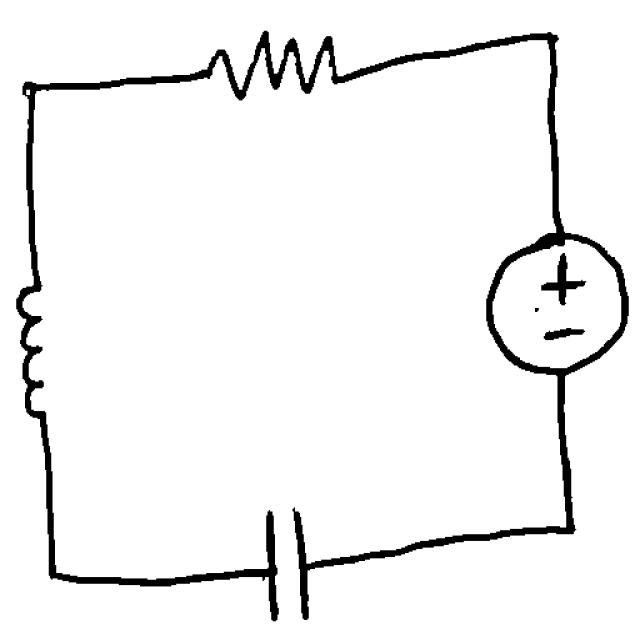inductor: (11, 269, 68, 436)
resistor: (188, 20, 358, 119)
